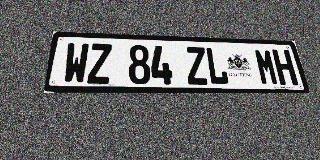4: (150, 45, 173, 84)
8: (129, 45, 151, 84)
H: (272, 49, 298, 85)
L: (205, 47, 229, 85)
M: (253, 49, 280, 85)
W: (62, 43, 89, 84)
Z: (87, 43, 112, 84), (185, 47, 209, 85)
